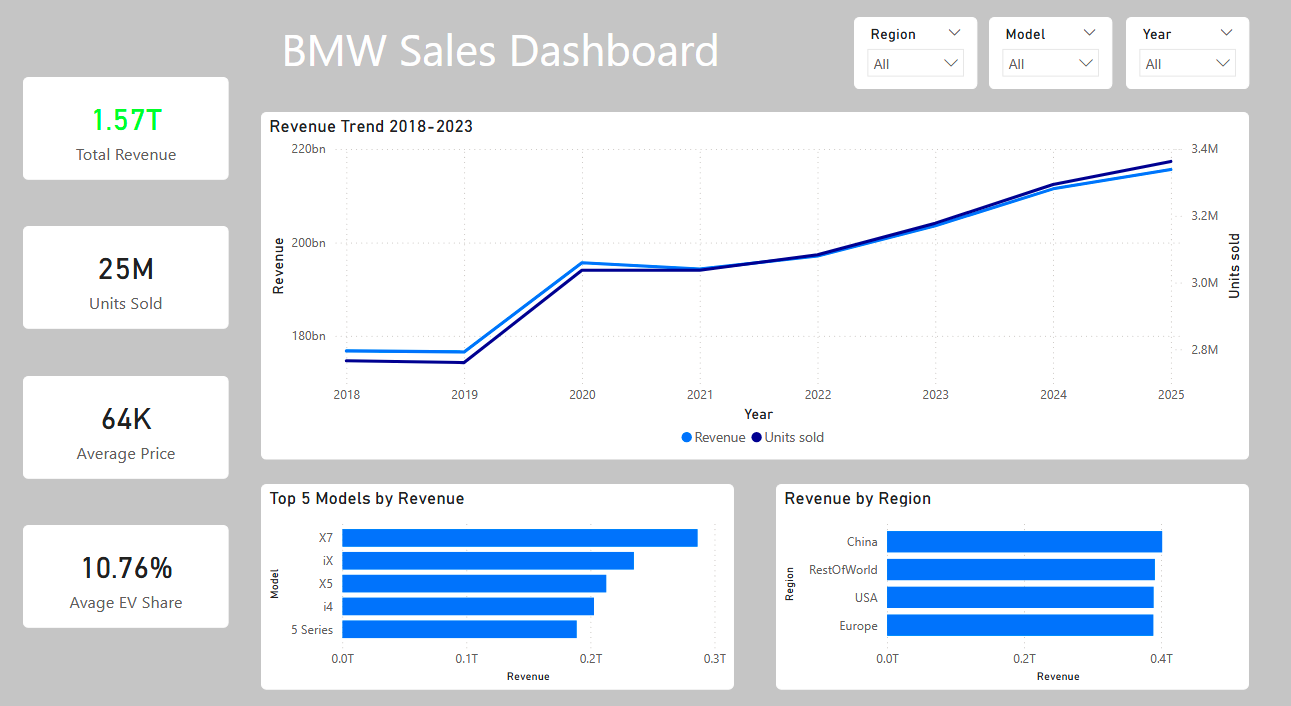

This screenshot's page, from the dashboard's own definition file:
{"tool":"powerbi","page":{"name":"Executive Summary","canvas":[1280,720],"ordinal":0},"visuals":[{"type":"card","fields":{"Values":["Sum(public bmw_data.revenue_eur)"]},"box":[30.2,87.5,200.4,100],"z":5000},{"type":"card","fields":{"Values":["Sum(public bmw_data.units_sold)"]},"box":[30.2,232.8,200,100],"z":6000},{"type":"card","title":"Average Price","fields":{"Values":["public bmw_data.Avg Price"]},"box":[30.2,378,200.4,100],"z":7000},{"type":"card","fields":{"Values":["public bmw_data.Avg EV Share"]},"box":[30.2,523.3,200.4,100],"z":8000},{"type":"clusteredBarChart","title":"Top 5 Models by Revenue","fields":{"Category":["public bmw_data.model"],"Y":["Sum(public bmw_data.revenue_eur)"]},"box":[261.6,483.4,460.1,200.4],"z":9000},{"type":"clusteredBarChart","title":"Revenue by Region","fields":{"Category":["public bmw_data.region"],"Y":["Sum(public bmw_data.revenue_eur)"]},"box":[762.6,483.4,460.1,200.4],"z":10000},{"type":"lineChart","title":"Revenue Trend 2018-2023","fields":{"Category":["public bmw_data.year Hierarchy.year","public bmw_data.year Hierarchy.month"],"Y":["Sum(public bmw_data.revenue_eur)"],"Y2":["Sum(public bmw_data.units_sold)"]},"box":[261.6,121.6,961,338.5],"z":11000},{"type":"textbox","box":[276.2,26.3,495.1,72.9],"z":12000},{"type":"slicer","fields":{"Values":["public bmw_data.region"]},"box":[838.4,29.2,120,70],"z":13000},{"type":"slicer","fields":{"Values":["public bmw_data.model"]},"box":[969.7,29.2,120,70],"z":14000},{"type":"slicer","fields":{"Values":["Date.Date.Variation.Date Hierarchy.Year"]},"box":[1103,29.2,120,70],"z":15000}]}

Visuals, with their boxes in screenshot pixels (x1, y1, x2, y2), scaled from the page's 1280x720 canvas onto the 1291x706 screenshot:
card - Sum(public bmw_data.revenue_eur): detection(30, 86, 233, 184)
card - Sum(public bmw_data.units_sold): detection(30, 228, 232, 326)
"Average Price" card: detection(30, 371, 233, 469)
card - public bmw_data.Avg EV Share: detection(30, 513, 233, 611)
"Top 5 Models by Revenue" clusteredBarChart: detection(264, 474, 728, 671)
"Revenue by Region" clusteredBarChart: detection(769, 474, 1233, 671)
"Revenue Trend 2018-2023" lineChart: detection(264, 119, 1233, 451)
textbox: detection(279, 26, 778, 97)
slicer - public bmw_data.region: detection(846, 29, 967, 97)
slicer - public bmw_data.model: detection(978, 29, 1099, 97)
slicer - Date.Date.Variation.Date Hierarchy.Year: detection(1112, 29, 1234, 97)
